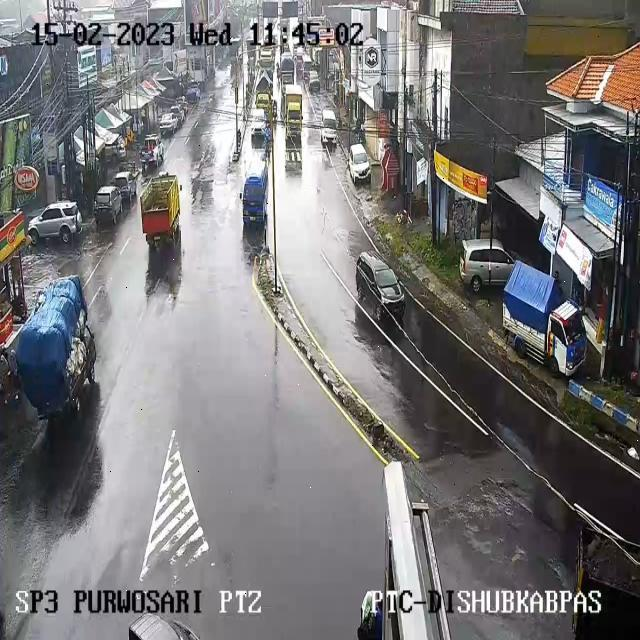Bus: (241, 159, 269, 224)
Car: (354, 251, 406, 323), (457, 238, 512, 292), (28, 201, 82, 244), (128, 613, 202, 638), (358, 590, 384, 638), (93, 187, 124, 226), (347, 144, 370, 184), (112, 171, 138, 203), (141, 134, 165, 168), (250, 107, 268, 144), (103, 134, 125, 162), (320, 109, 338, 143), (279, 54, 295, 84), (258, 46, 276, 72), (159, 112, 179, 134), (245, 45, 258, 78), (301, 54, 312, 84), (272, 17, 282, 48), (170, 105, 186, 124), (185, 85, 201, 103), (309, 48, 322, 70), (308, 71, 320, 93), (295, 53, 305, 79), (327, 71, 339, 91), (215, 57, 230, 72), (177, 97, 189, 115), (296, 46, 304, 60), (245, 31, 253, 44), (230, 36, 241, 45)
Truck: (14, 276, 95, 419), (502, 260, 588, 380), (139, 172, 180, 247), (284, 87, 304, 140), (255, 90, 272, 116)
